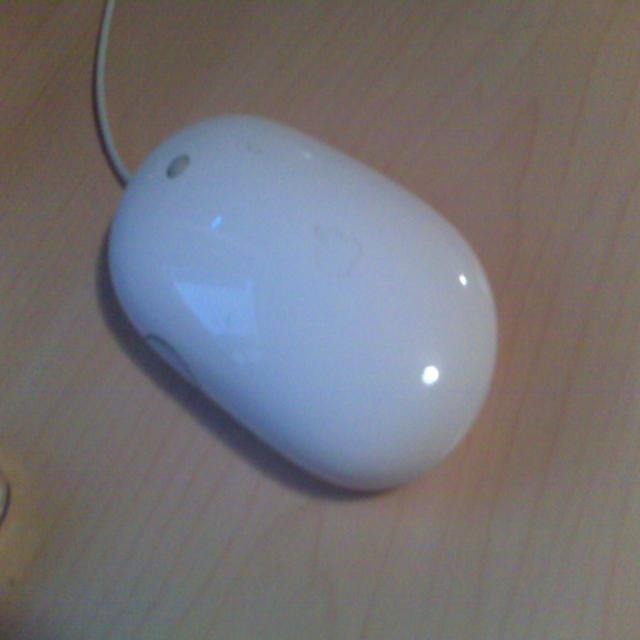Computer-mouse: (110, 109, 500, 494), (109, 111, 498, 494)
